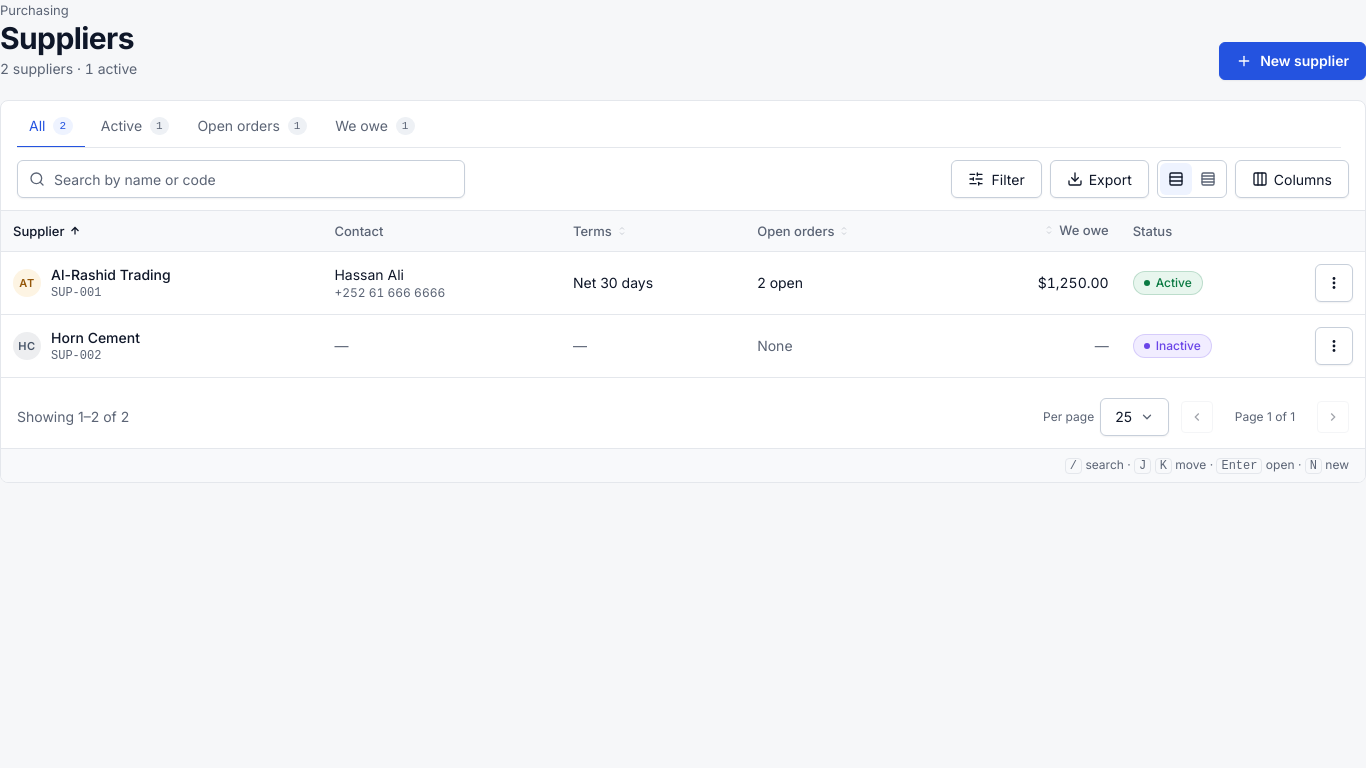
Test: SupplierList — edit form (A15 / D8) › refuses to submit when nothing changed rather than provoking the server 400
What coordinates should you click on to do the following:
click the button named "Actions for Al-Rashid Trading"
I would click on:
 (1334, 282)
Its box is [1315,264,1353,302].
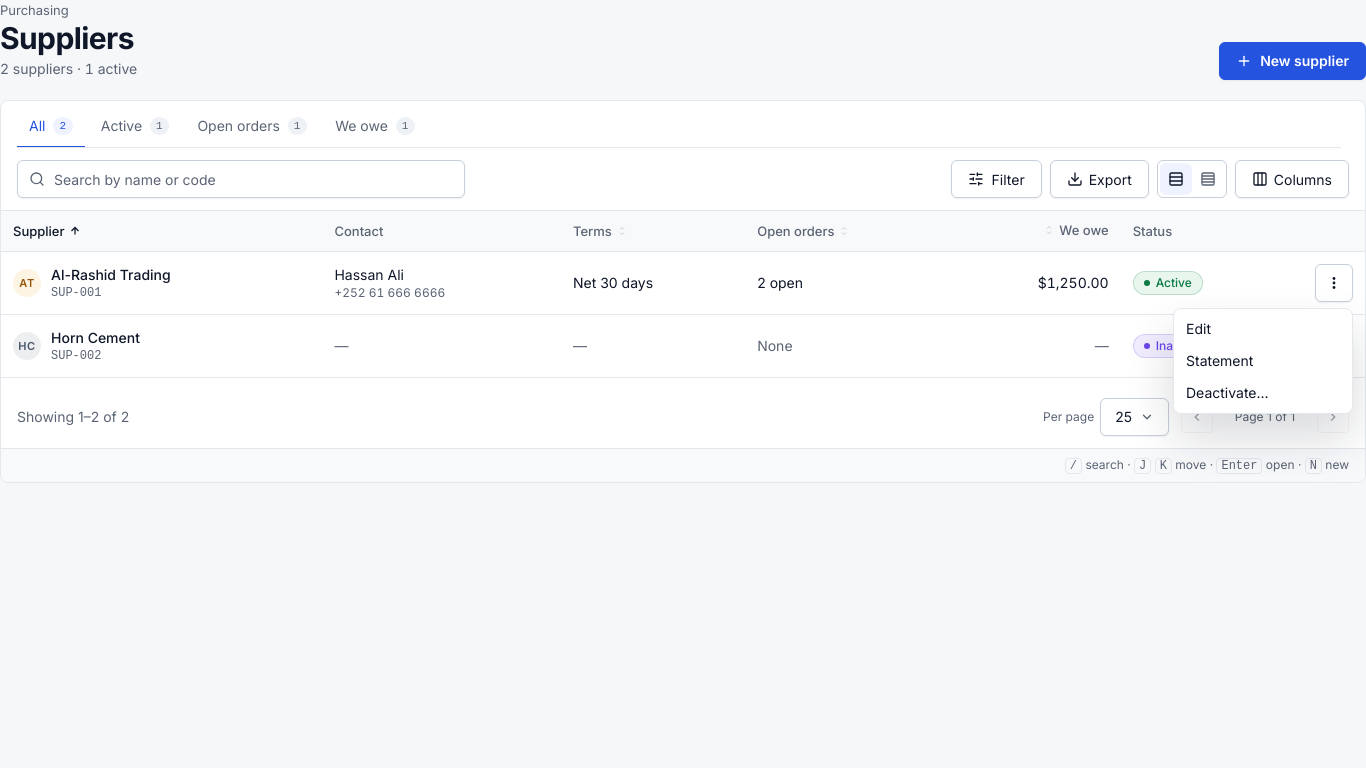
What coordinates should you click on to do the following:
click the menu item "Edit"
I would click on:
 (1198, 328)
Its box is [1186,320,1211,337].
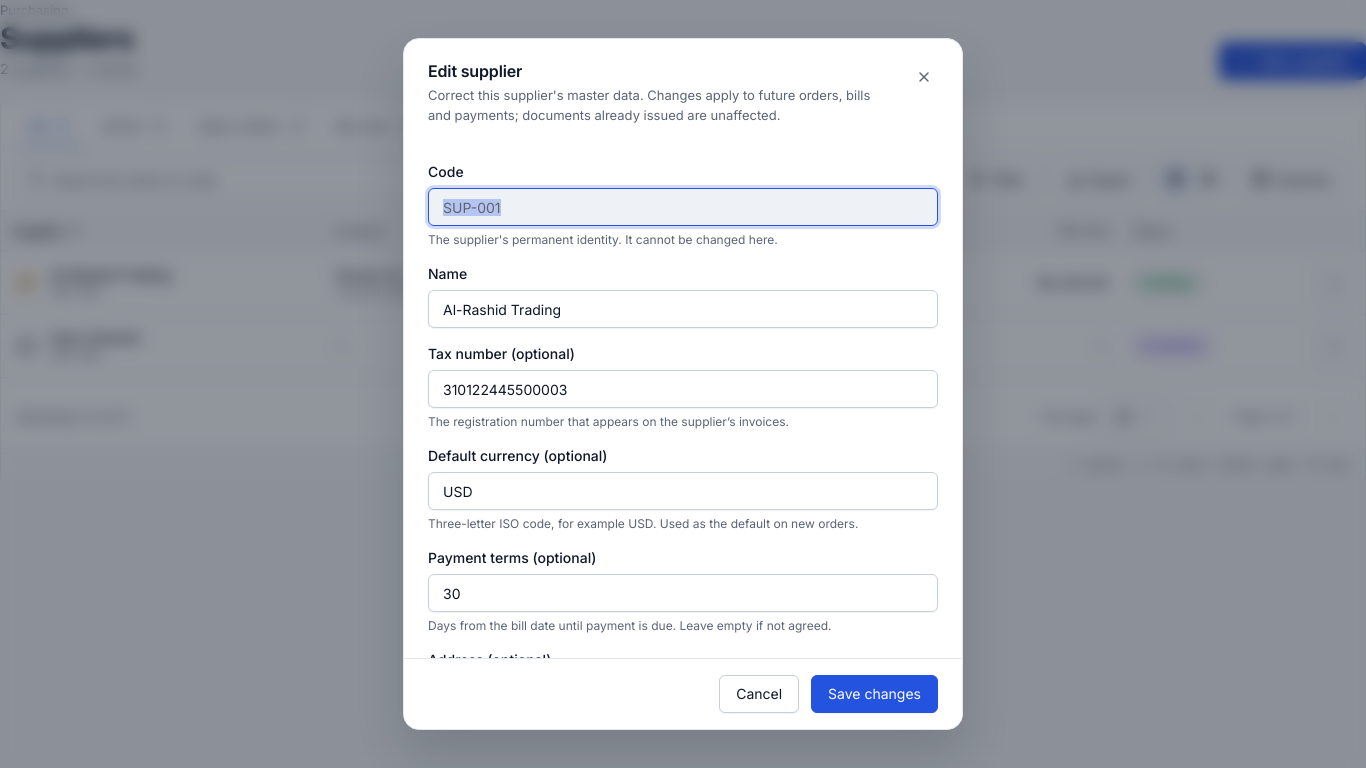
What coordinates should you click on to do the following:
click the button "Save changes"
I would click on:
 (875, 694)
Its box is [811,675,938,713].
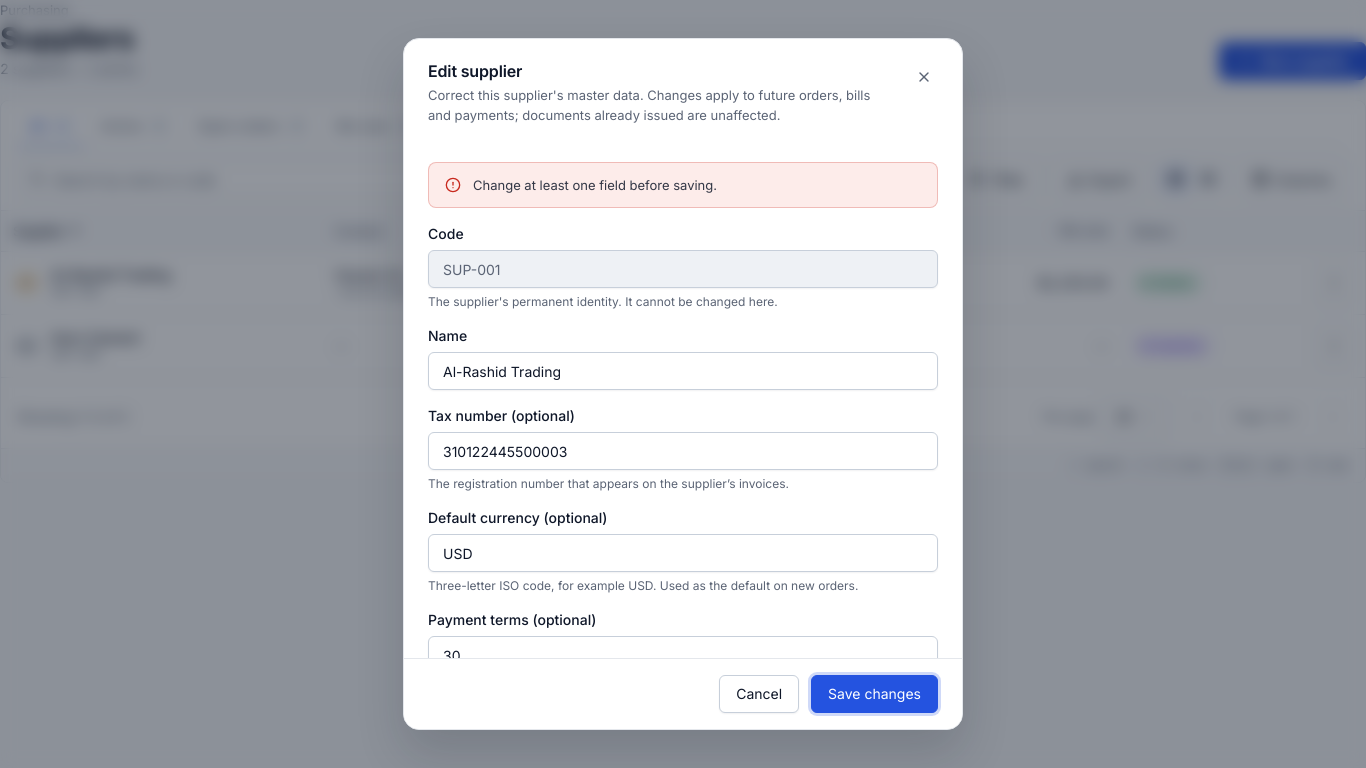
Now the text "Change at least one field before saving." is shown, box [473,177,717,193]
